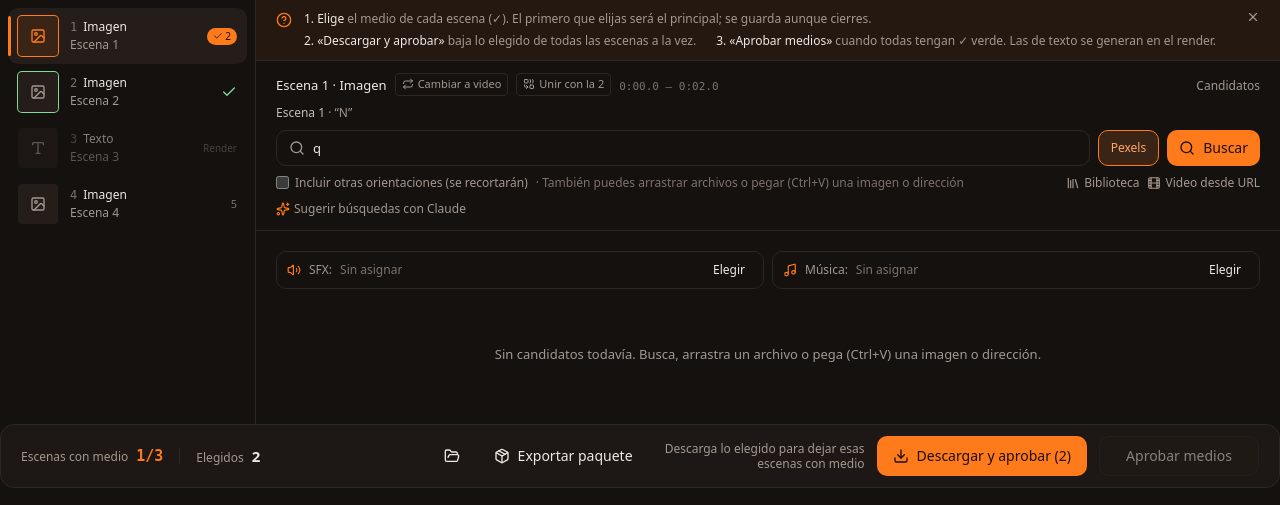
Scenario: flujo de medios en pantalla › cambia el tipo de la escena entre video e imagen sin desbloquear las escenas
Click the button "Cambiar a video". click: (451, 84)
box: [395,73,508,96]
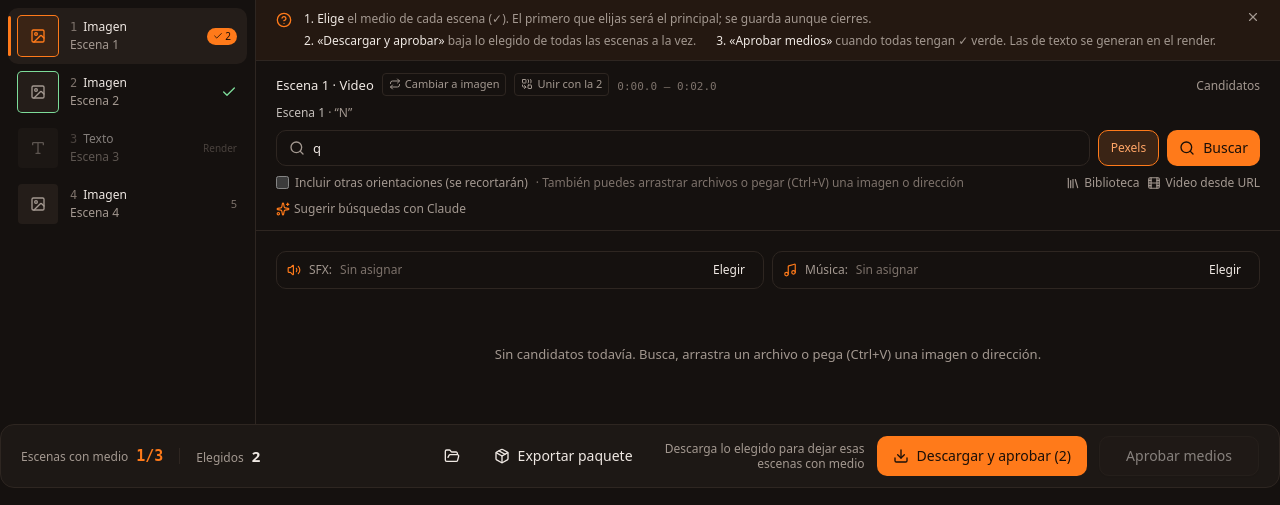
expect the button "Cambiar a imagen" is shown: met, box [382,73,506,96]
expect the text "Escena 1 · Video" is shown: met, box [276,76,374,96]
